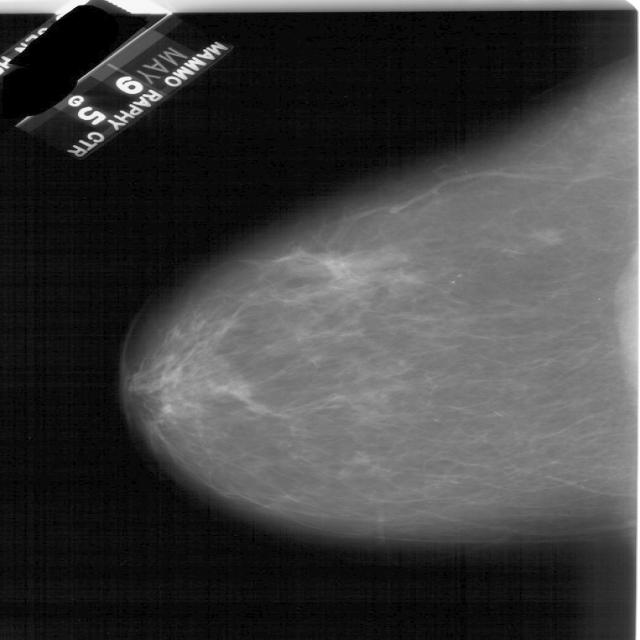tumour: (525, 228, 567, 242)
